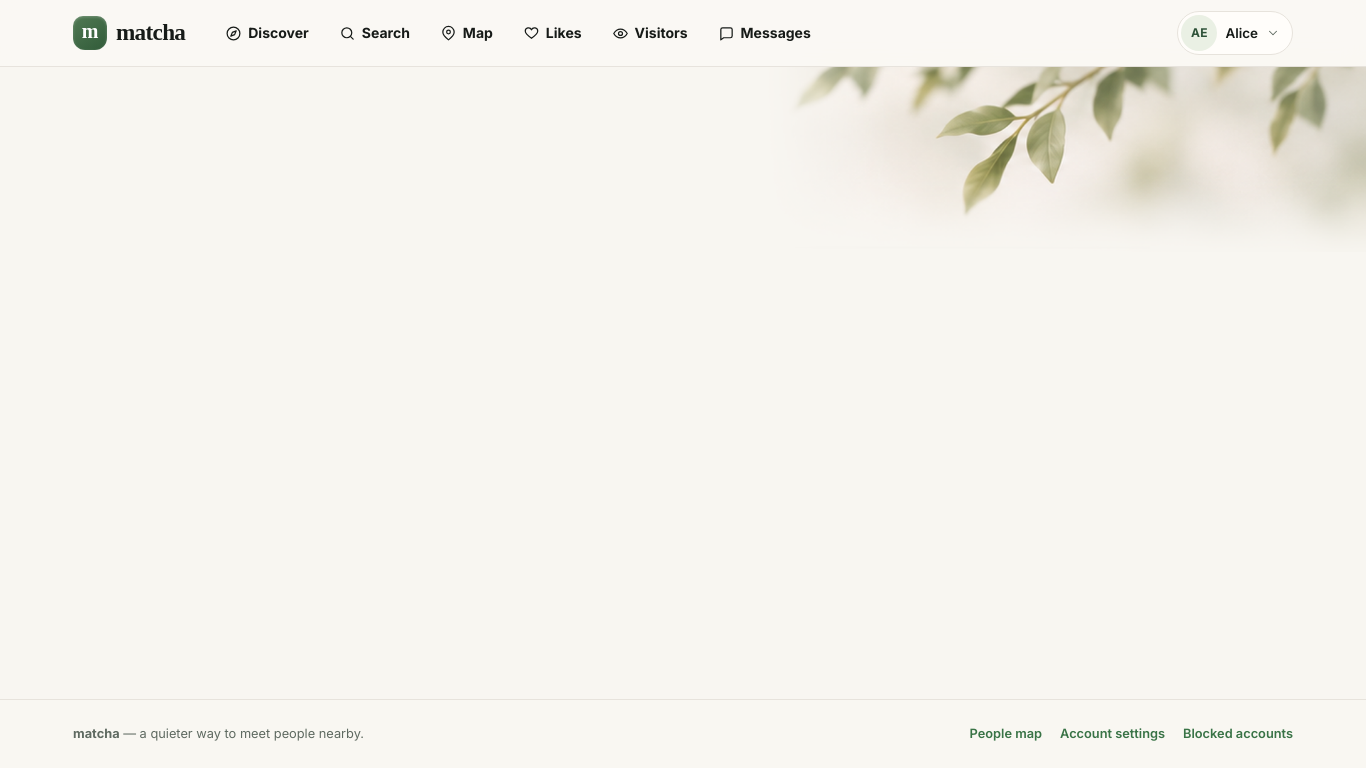
Test case: account dropdown places Calendar directly below My profile and closes on selection
Click the button with aria-label "Account menu". click: (1235, 33)
box: top-left (1177, 11), bottom-right (1293, 55)
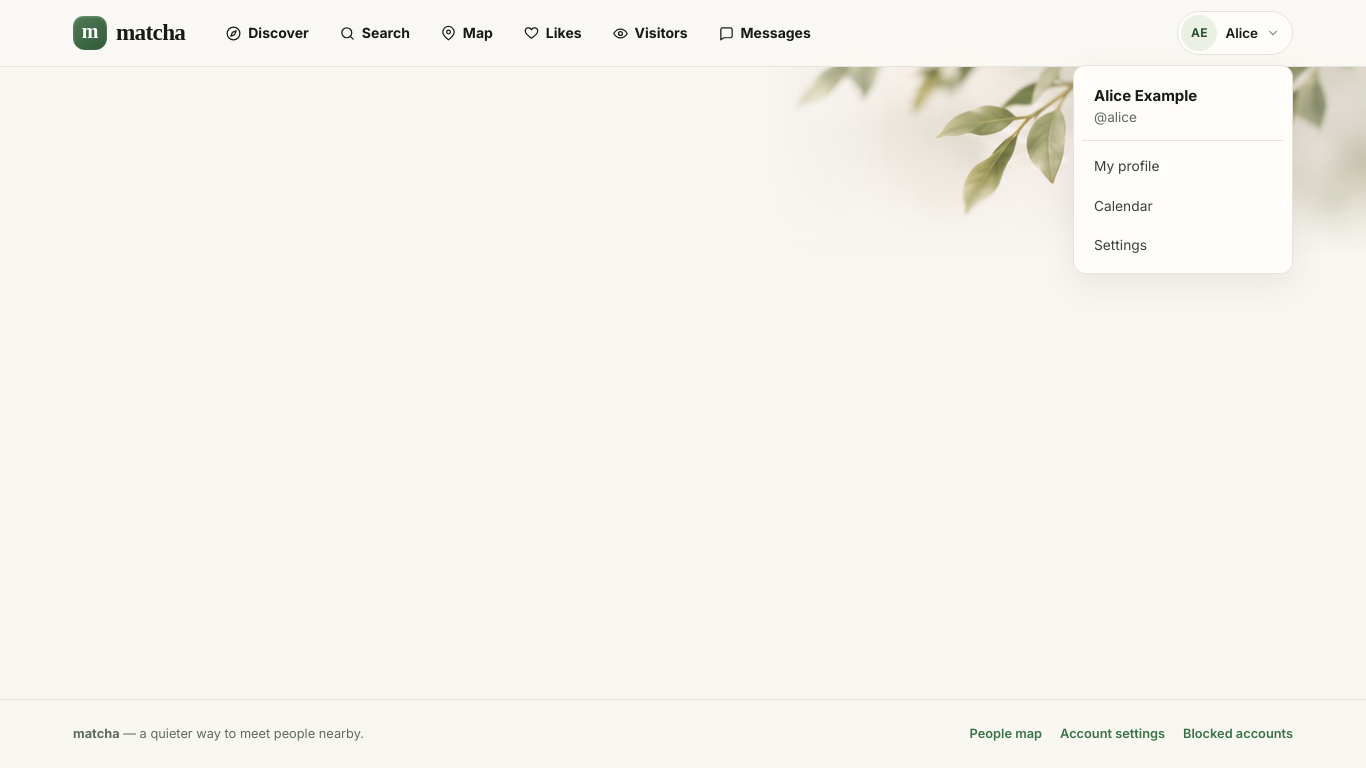
Click the link "Calendar". click: (1123, 206)
box: top-left (1094, 198), bottom-right (1153, 214)
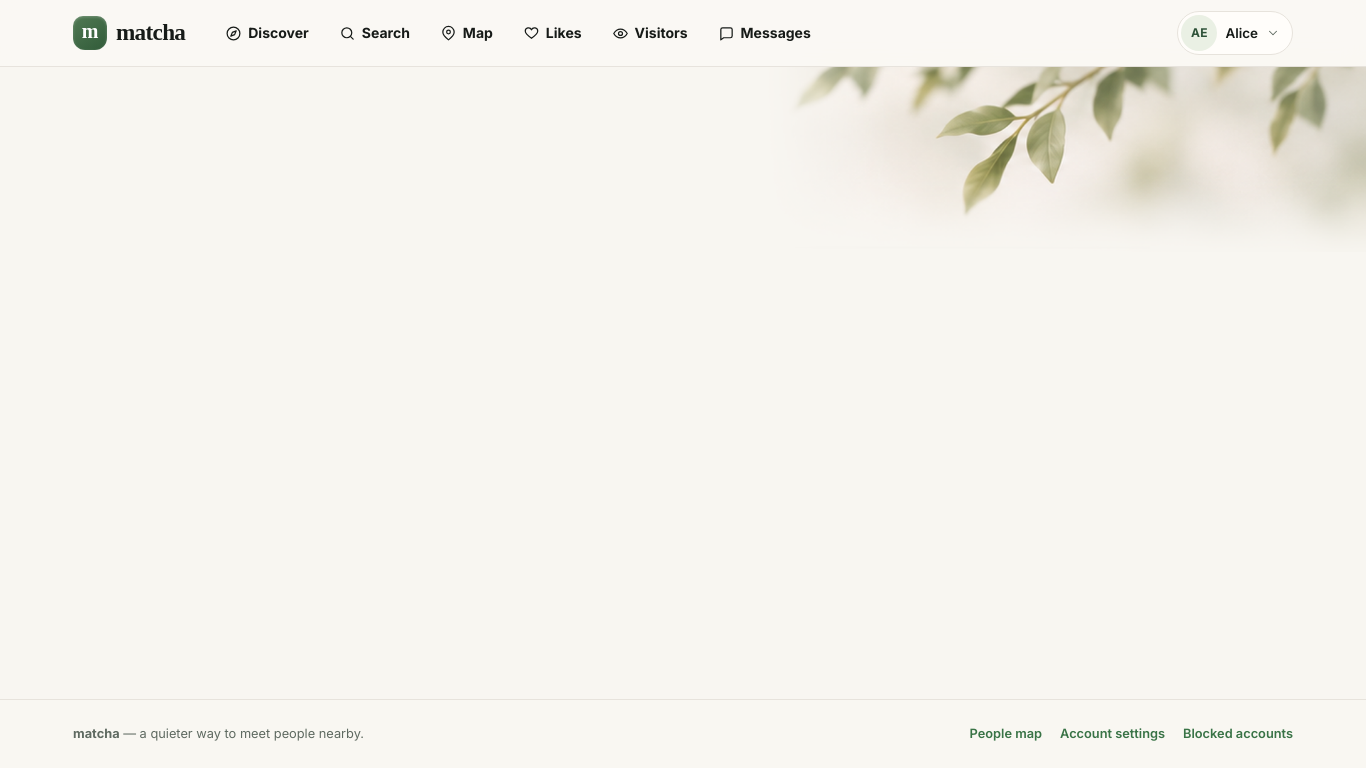
Expected: the link "Calendar" is gone
